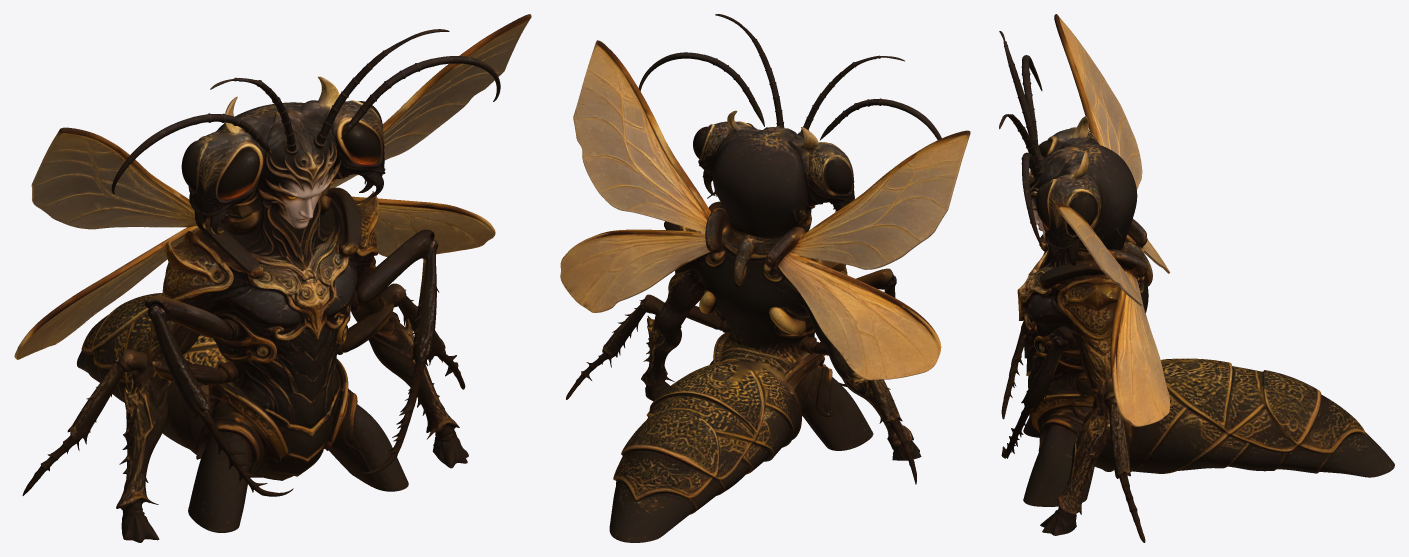
The model's file is jiao-chong.glb.
3 views of the same model, side by side, from view 1: azimuth 30°, elevation 25°; view 2: azimuth 150°, elevation 25°; view 3: azimuth 270°, elevation 25° (orthographic). The views are drawn at different scales.
Parts seen in each view (by area): view 1: node_0; view 2: node_0; view 3: node_0.
Boxes of the visible parts, bbox=[...] form: node_0: bbox=[14, 14, 531, 542]; node_0: bbox=[560, 14, 970, 542]; node_0: bbox=[999, 14, 1394, 542].
Bounding box in the file's own units: 0.8593 × 0.8029 × 0.7385.
1 material, 1 textured.
